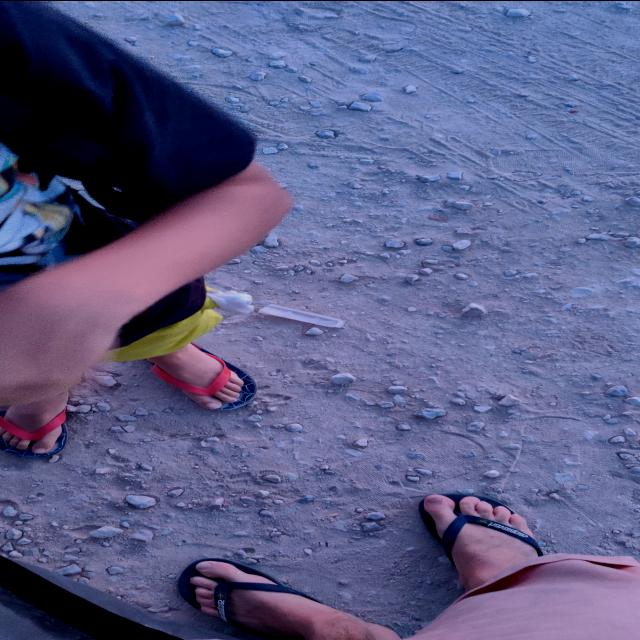Other plastic bottle: (258, 302, 345, 327)
